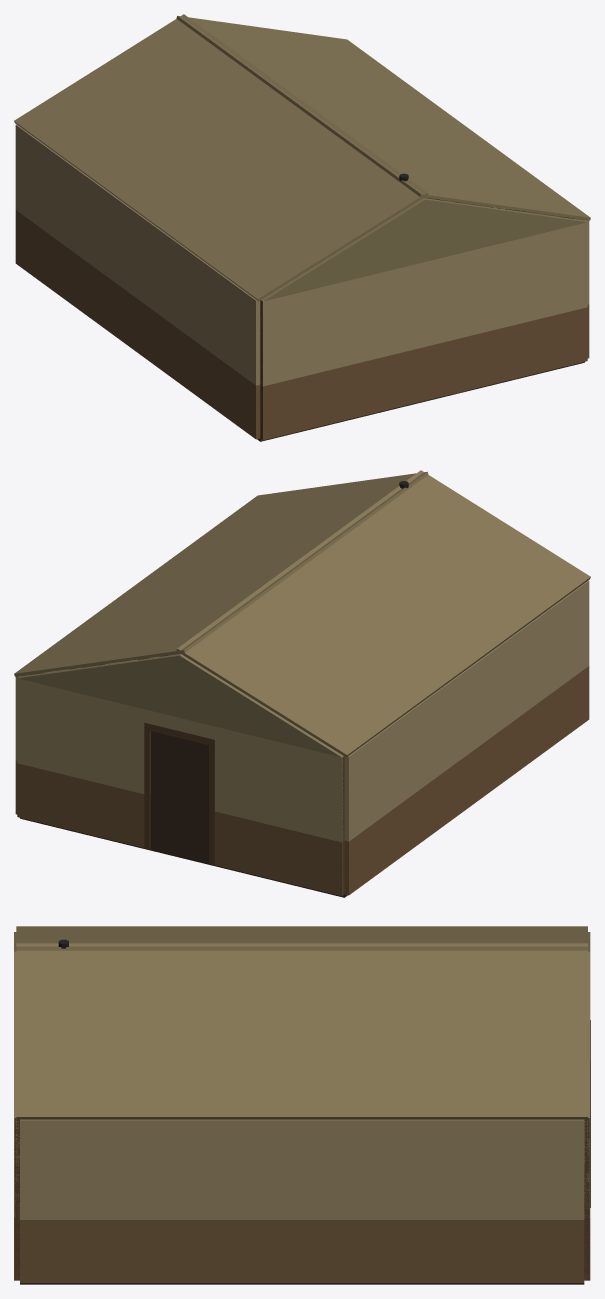
File: BunkRoomB.glb
3 views of the same model, one above another, from view 1: azimuth 30°, elevation 25°; view 2: azimuth 150°, elevation 25°; view 3: azimuth 270°, elevation 25° (orthographic). The views are drawn at different scales.
Parts seen in each view (by area): view 1: BunkRoomB; view 2: BunkRoomB; view 3: BunkRoomB.
Boxes of the visible parts, box(x1,y1,x2,y2) form: BunkRoomB: box(14, 14, 590, 441); BunkRoomB: box(14, 470, 590, 897); BunkRoomB: box(14, 926, 590, 1284).
Bounding box in the file's own units: 6.16 × 3.77 × 7.87.
